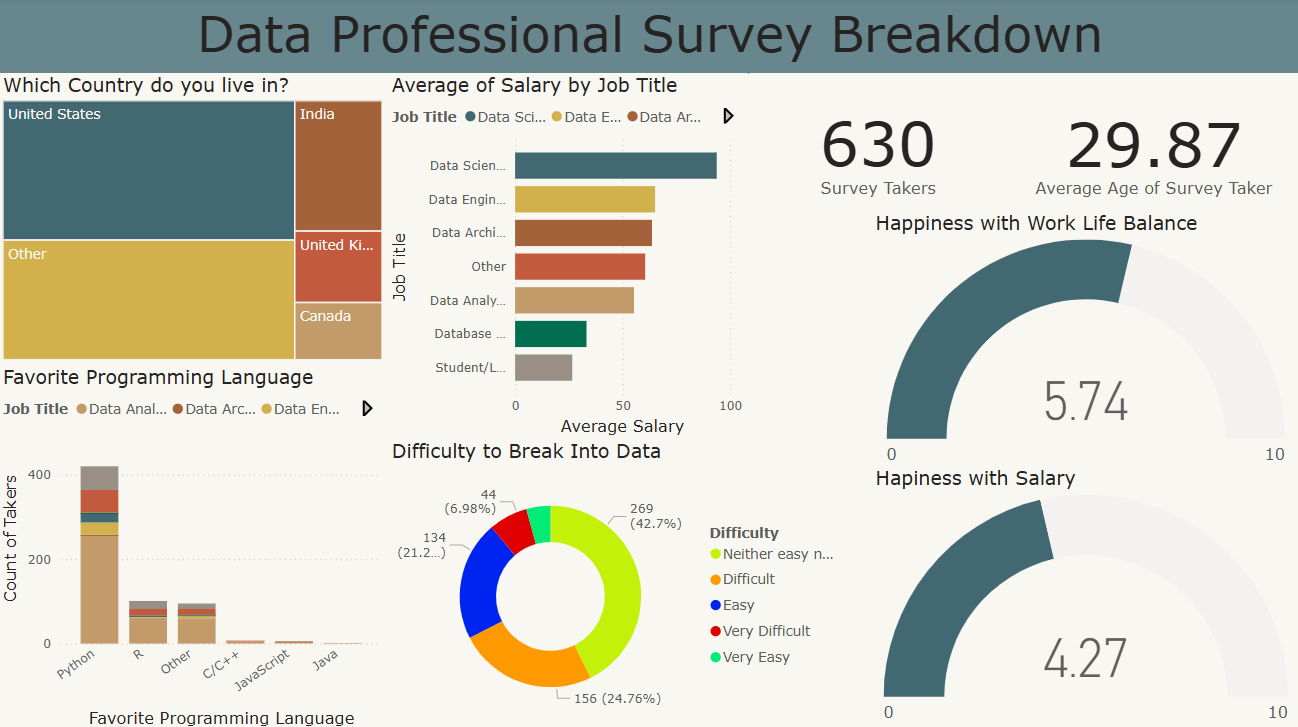

The dashboard page shown, as its layout file describes it:
{"tool":"powerbi","page":{"name":"Page 1","canvas":[1280,720],"ordinal":0},"visuals":[{"type":"textbox","box":[0,0,1280.3,74.1],"z":0},{"type":"card","fields":{"Values":["Count(Data Professional Survey.Unique ID)"]},"box":[736.9,74.1,253.9,150.9],"z":1000},{"type":"card","fields":{"Values":["Avg(Data Professional Survey.Q10 - Current Age)"]},"box":[990.7,73.5,289.6,151.4],"z":2000},{"type":"barChart","title":"Average of Salary by Job Title","fields":{"Category":["Data Professional Survey.Q1 - Which Title Best Fits your Current Role?.1"],"Y":["Avg(Data Professional Survey.Avg Salary)"],"Series":["Data Professional Survey.Q1 - Which Title Best Fits your Current Role?.1"]},"box":[382.2,73.5,354.3,360.1],"z":3000},{"type":"columnChart","title":"Favorite Programming Language","fields":{"Category":["Data Professional Survey.Q5 - Favorite Programming Language.1"],"Y":["CountNonNull(Data Professional Survey.Unique ID)"],"Series":["Data Professional Survey.Q1 - Which Title Best Fits your Current Role?.1"]},"box":[0,360.1,382.2,360.1],"z":4000},{"type":"treemap","title":"Which Country do you live in?","fields":{"Group":["Data Professional Survey.Q11 - Which Country do you live in?.1"],"Values":["CountNonNull(Data Professional Survey.Q11 - Which Country do you live in?.1)"]},"box":[0,73.5,382.2,286.6],"z":5000},{"type":"gauge","title":"Happiness with Work Life Balance","fields":{"Y":["Avg(Data Professional Survey.Q6 - How Happy are you in your Current Position with the following? (Work/Life Balance))"],"MinValue":["Min(Data Professional Survey.Q6 - How Happy are you in your Current Position with the following? (Work/Life Balance))1"],"MaxValue":["Max(Data Professional Survey.Q6 - How Happy are you in your Current Position with the following? (Work/Life Balance))2"]},"box":[856.6,210.2,423.3,257.2],"z":6000},{"type":"gauge","title":"Hapiness with Salary","fields":{"Y":["Avg(Data Professional Survey.Q6 - How Happy are you in your Current Position with the following? (Salary))"],"MinValue":["Min(Data Professional Survey.Q6 - How Happy are you in your Current Position with the following? (Salary))"],"MaxValue":["Max(Data Professional Survey.Q6 - How Happy are you in your Current Position with the following? (Salary))"]},"box":[856.6,459.8,423.3,260.2],"z":7000},{"type":"donutChart","title":"Difficulty to Break Into Data","fields":{"Category":["Data Professional Survey.Q7 - How difficult was it for you to break into Data?"],"Y":["CountNonNull(Data Professional Survey.Q7 - How difficult was it for you to break into Data?)"]},"box":[382.2,433.6,455.7,286.6],"z":8000}]}

Visuals, with their boxes in screenshot pixels (x1, y1, x2, y2), scaled from the page's 1280x720 canvas onto the 1298x727 screenshot:
textbox: 0:0:1297:75
card - Count(Data Professional Survey.Unique ID): 747:75:1005:227
card - Avg(Data Professional Survey.Q10 - Current Age): 1005:74:1297:227
"Average of Salary by Job Title" barChart: 388:74:747:438
"Favorite Programming Language" columnChart: 0:364:388:726
"Which Country do you live in?" treemap: 0:74:388:364
"Happiness with Work Life Balance" gauge: 869:212:1297:472
"Hapiness with Salary" gauge: 869:464:1297:726
"Difficulty to Break Into Data" donutChart: 388:438:850:726
